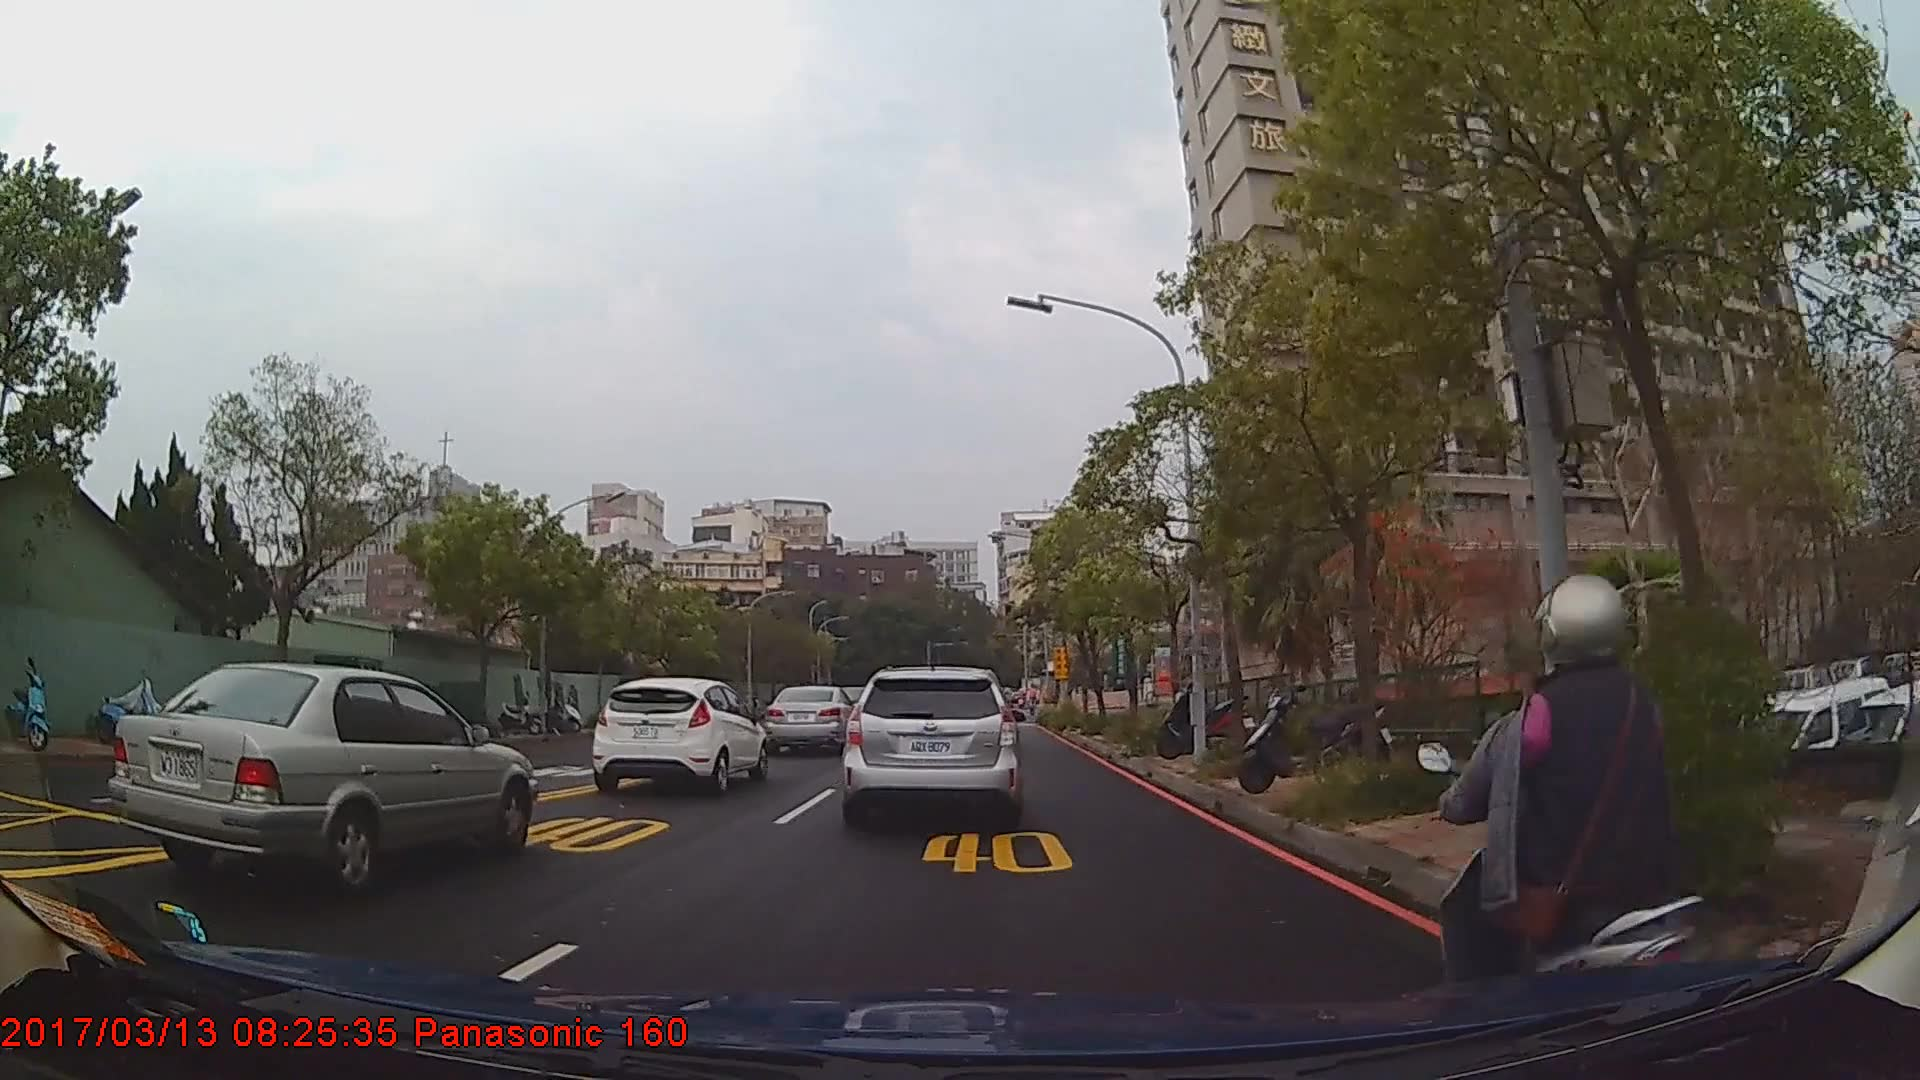rider: (1433, 573, 1702, 1047)
vehicle: (103, 660, 539, 889), (842, 662, 1019, 822), (589, 676, 768, 793), (767, 684, 861, 754)
